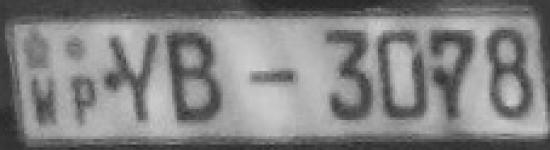-: (242, 63, 306, 90)
0: (376, 24, 430, 126), (428, 19, 478, 123)
3: (319, 23, 376, 128)
8: (480, 23, 539, 126)
B: (162, 27, 227, 131)
P: (66, 71, 98, 126)
W: (25, 73, 60, 128)
Y: (104, 26, 162, 128)
